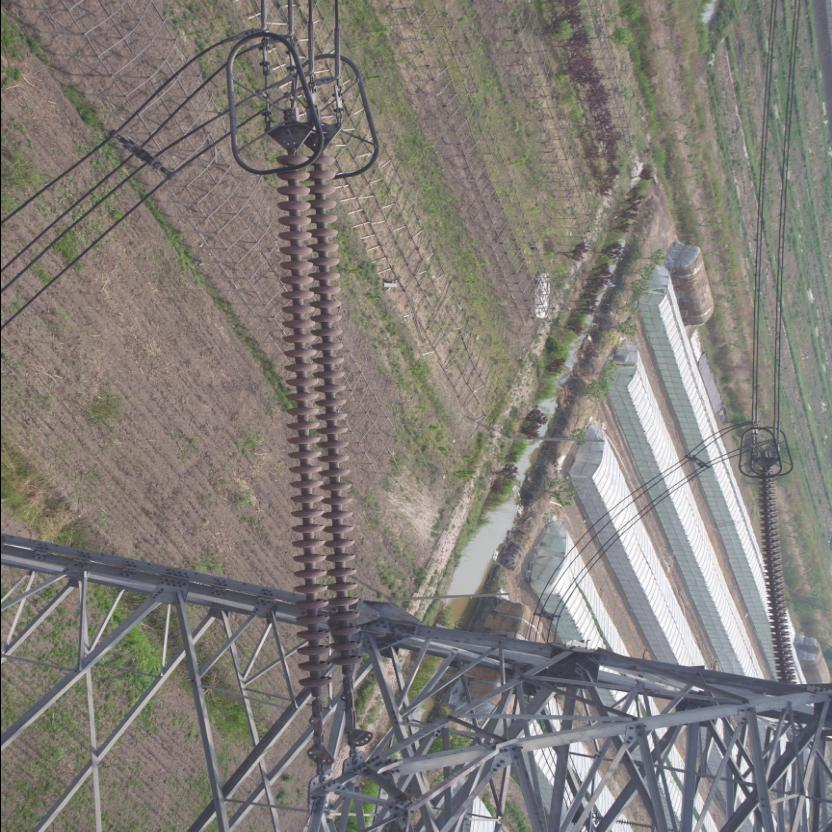insulator: (273, 144, 369, 722), (755, 465, 799, 683)
